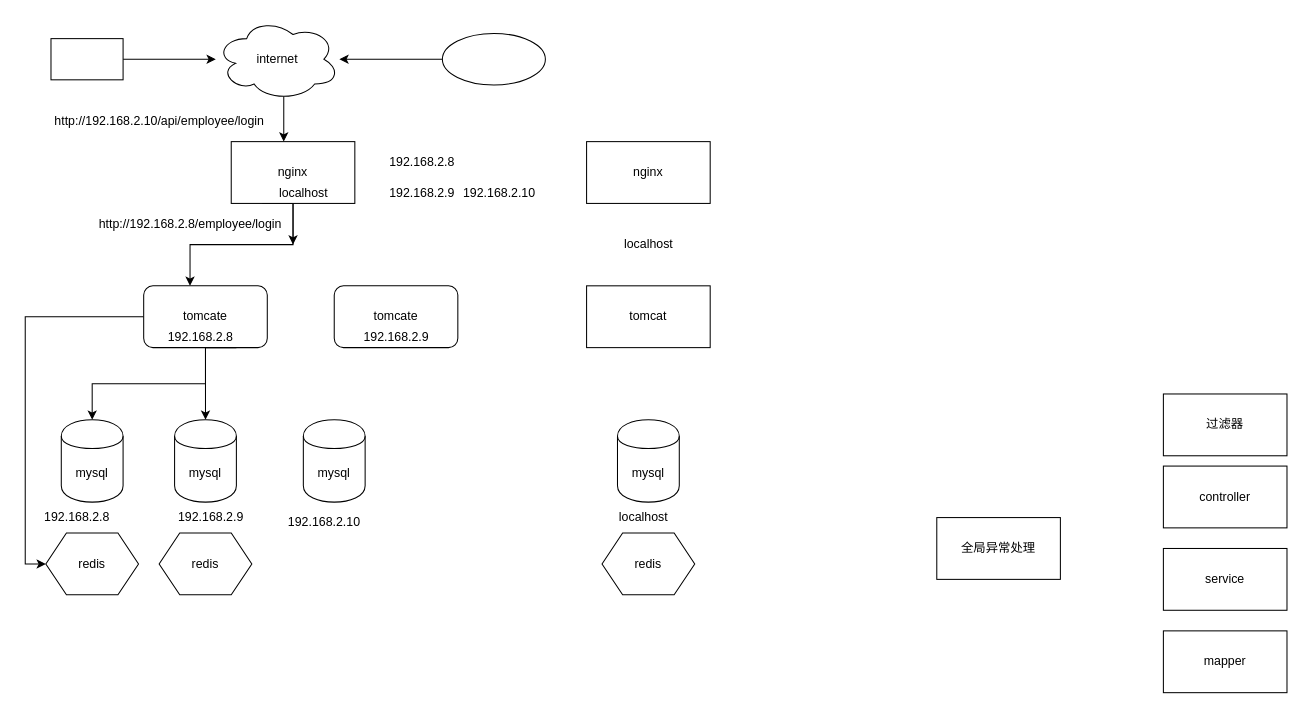
This 1305x711 diagram has some shape labels left out. Here are the shapes that lost their labels. From the top down, the centre of each, then its label:
the point at 86,59: pc
the point at 493,58: 移动端
